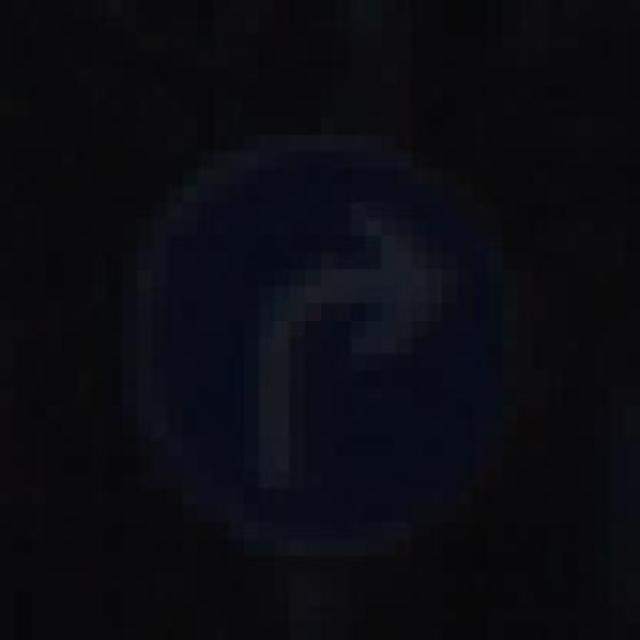Turn right ahead: (122, 101, 533, 522)
